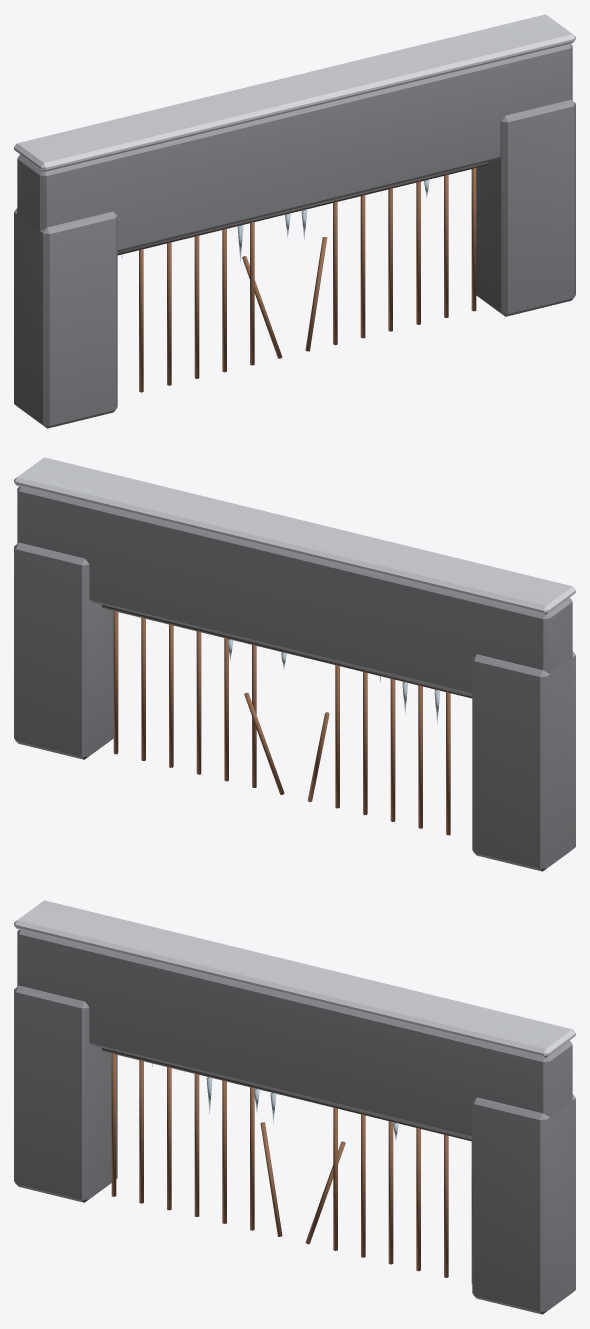
File: water_grate_broken.glb
3 renders of one model, top to bottom at view 1: azimuth 30°, elevation 25°; view 2: azimuth 150°, elevation 25°; view 3: azimuth 330°, elevation 25°, orthographic.
Parts seen in each view (by area): view 1: water_grate_broken; view 2: water_grate_broken; view 3: water_grate_broken.
Part boxes in pixels (bbox=[...]): water_grate_broken: bbox=[14, 14, 575, 428]; water_grate_broken: bbox=[14, 457, 575, 871]; water_grate_broken: bbox=[14, 900, 575, 1314].
Bounding box in the file's own units: 10.04 × 4.77 × 1.1.
